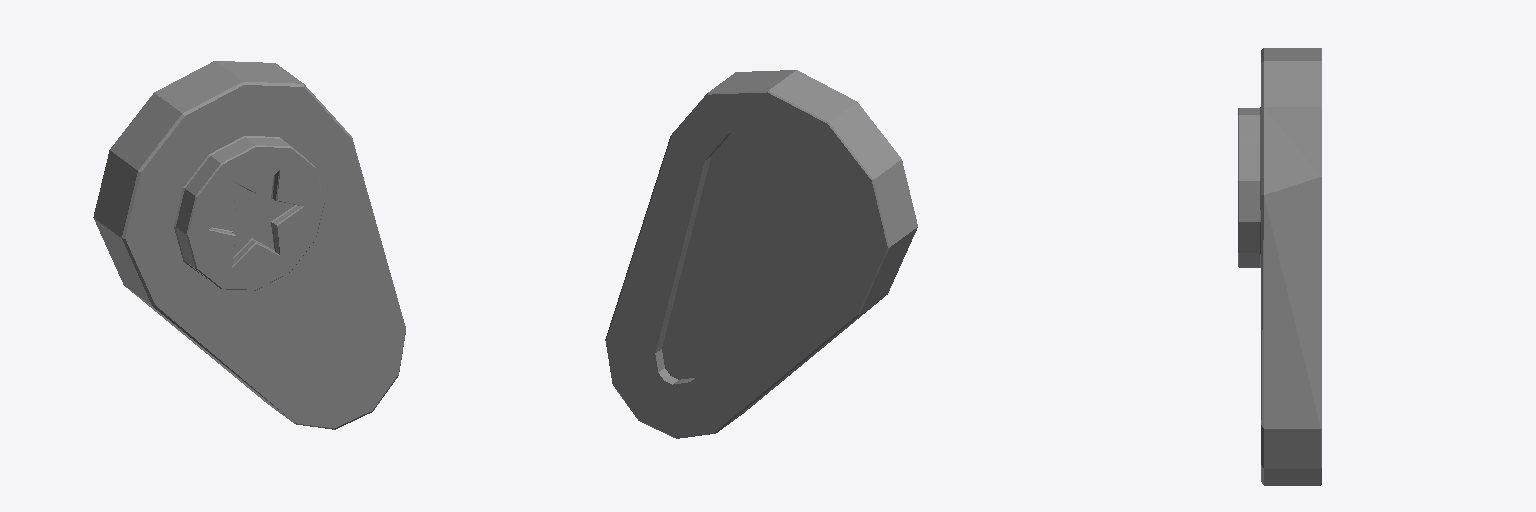
The model's file is tuerca_right_back.obj.
3 views of the same model, side by side, from view 1: azimuth 30°, elevation 25°; view 2: azimuth 150°, elevation 25°; view 3: azimuth 270°, elevation 25° (orthographic).
Visible parts, largest first — view 1: tuerca_right_back; view 2: tuerca_right_back; view 3: tuerca_right_back.
Boxes of the visible parts, x1=… form: tuerca_right_back: x1=93, y1=61, x2=405, y2=429; tuerca_right_back: x1=605, y1=70, x2=917, y2=438; tuerca_right_back: x1=1238, y1=48, x2=1321, y2=485.
Size of the model in its own units: 3.97 by 4.94 by 1.02.